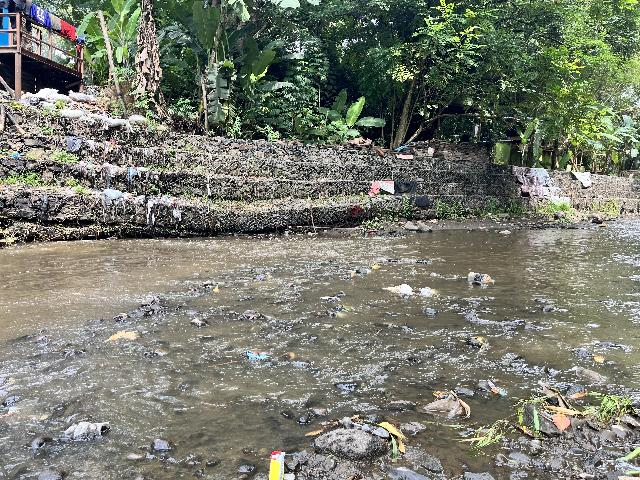Sampah Anorganik: (419, 393, 475, 418), (465, 270, 499, 289), (485, 378, 508, 397), (269, 451, 284, 480), (384, 285, 414, 296), (244, 347, 266, 359), (421, 287, 438, 298), (319, 296, 342, 304), (367, 263, 384, 271)
Sampah Organik: (534, 388, 581, 433), (362, 417, 410, 458), (586, 386, 635, 424), (464, 424, 503, 454), (105, 331, 139, 343), (473, 333, 488, 351), (1, 409, 24, 418), (111, 311, 131, 320), (303, 428, 324, 436), (280, 352, 297, 361), (30, 413, 48, 421), (593, 355, 609, 364), (342, 303, 356, 312), (207, 361, 237, 365), (265, 271, 275, 280), (333, 310, 344, 318), (184, 287, 195, 295), (319, 421, 338, 425), (249, 314, 260, 320), (349, 272, 357, 278), (214, 284, 219, 293)
